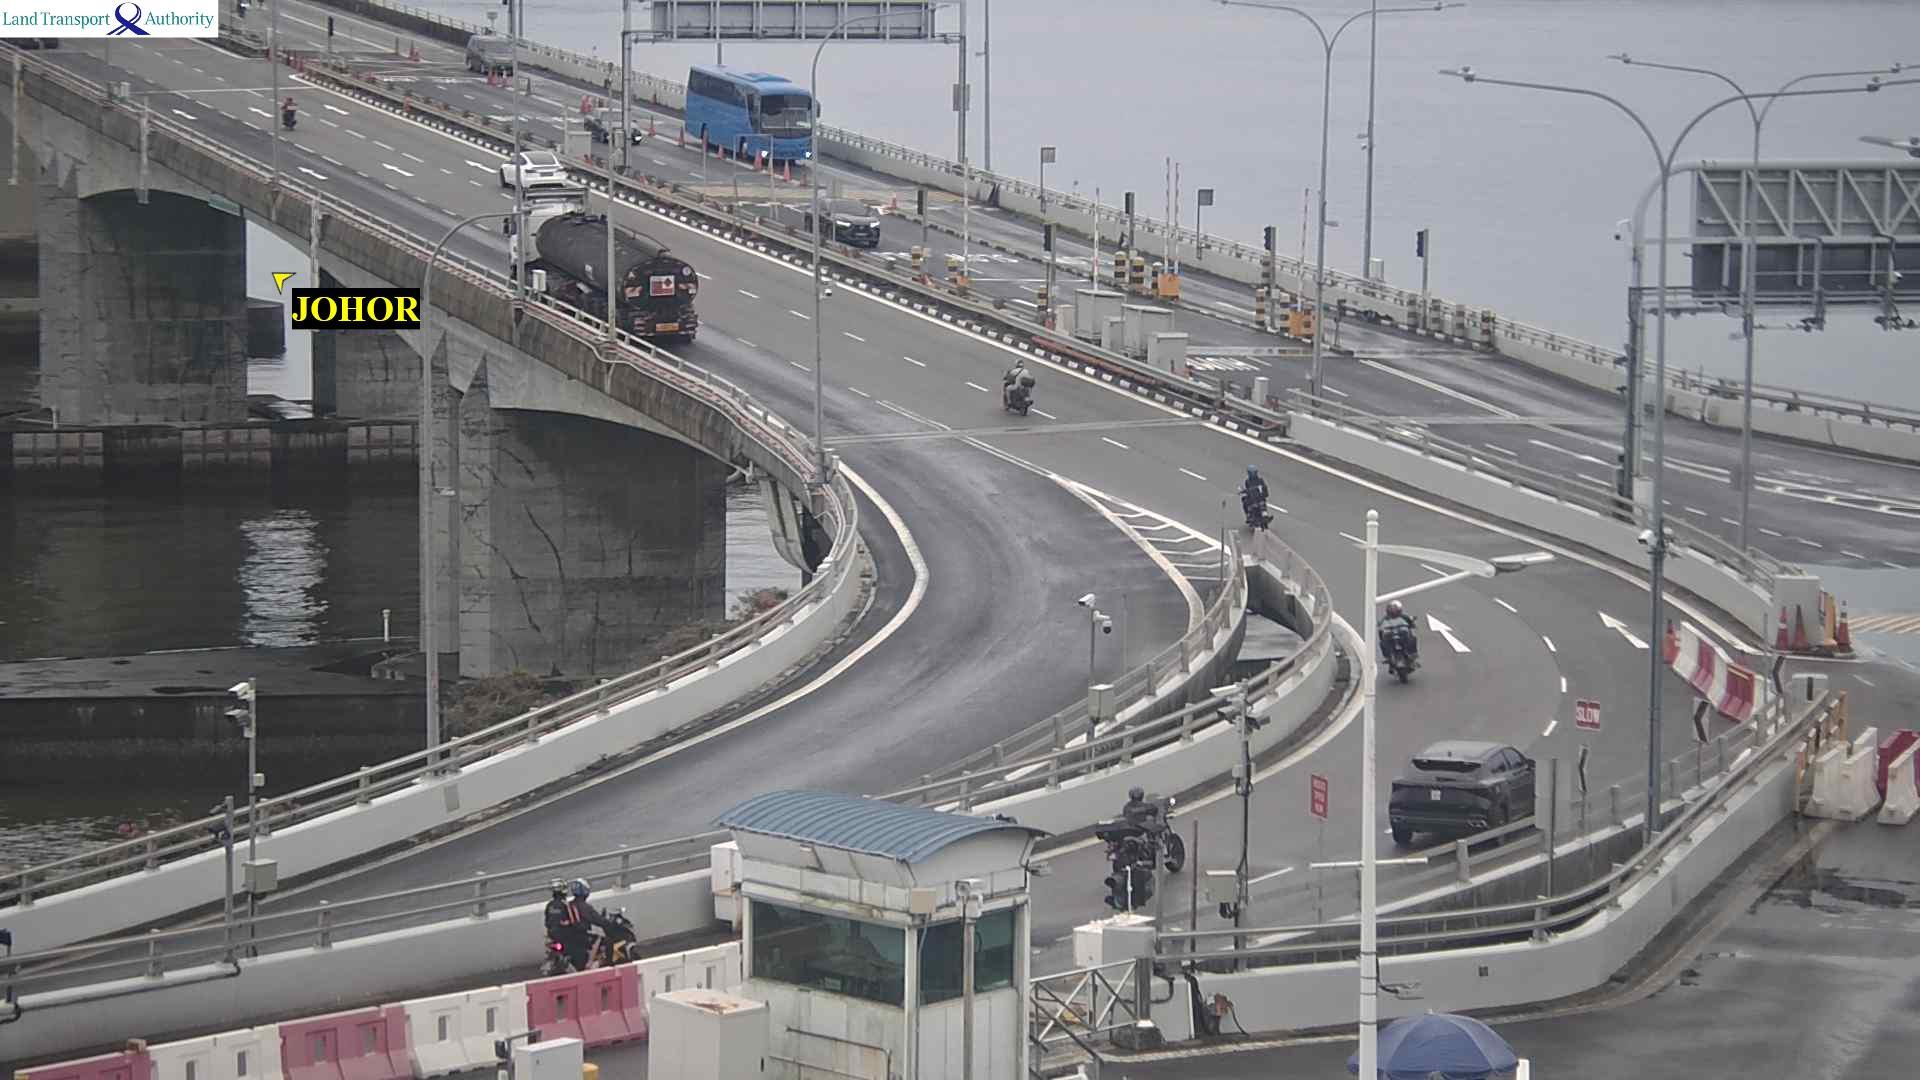vehicle-secondlink-johor: (520, 210, 683, 339), (1395, 745, 1539, 847), (1112, 785, 1176, 889), (547, 878, 629, 955), (1377, 603, 1416, 678), (504, 157, 587, 191), (1237, 469, 1273, 525), (1002, 365, 1040, 415), (284, 103, 303, 129)
vehicle-secondlink-singapore: (682, 71, 812, 170), (684, 65, 820, 125), (796, 199, 886, 233), (1874, 290, 1920, 331)
